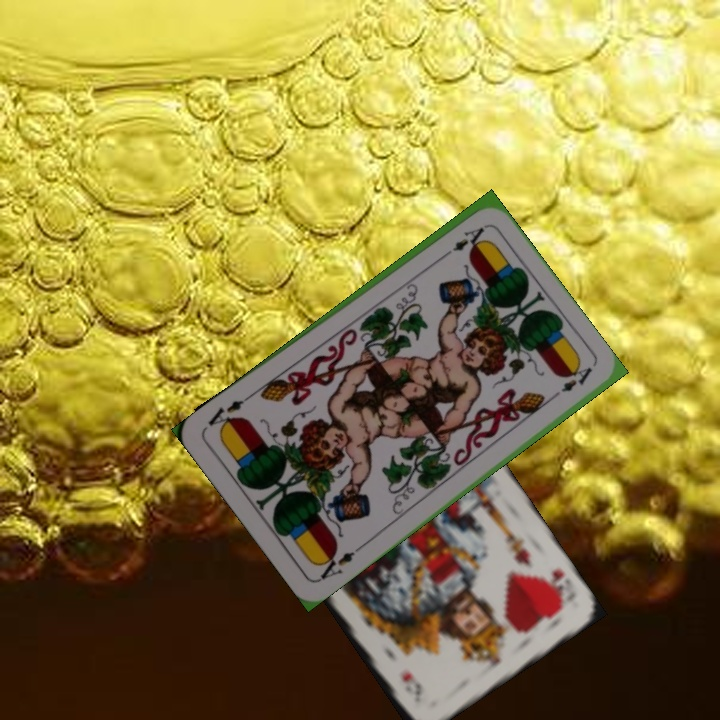EA: (313, 541, 364, 584), (436, 222, 487, 262)
HK: (538, 564, 567, 610)
